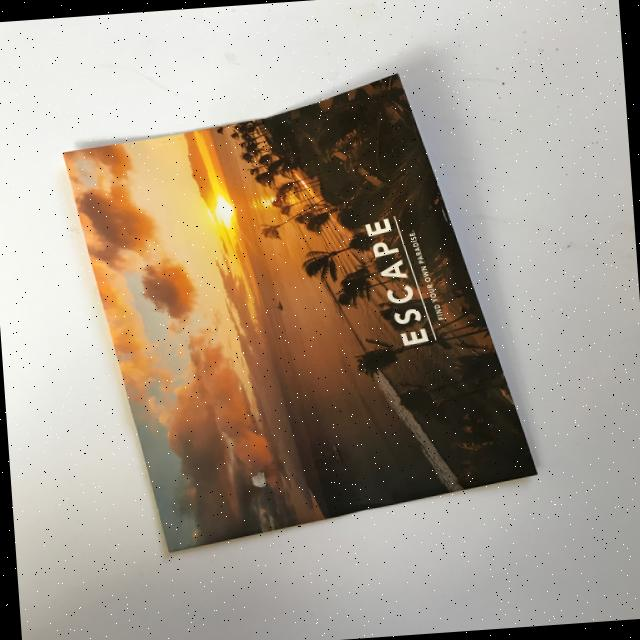paper: (59, 66, 541, 558)
